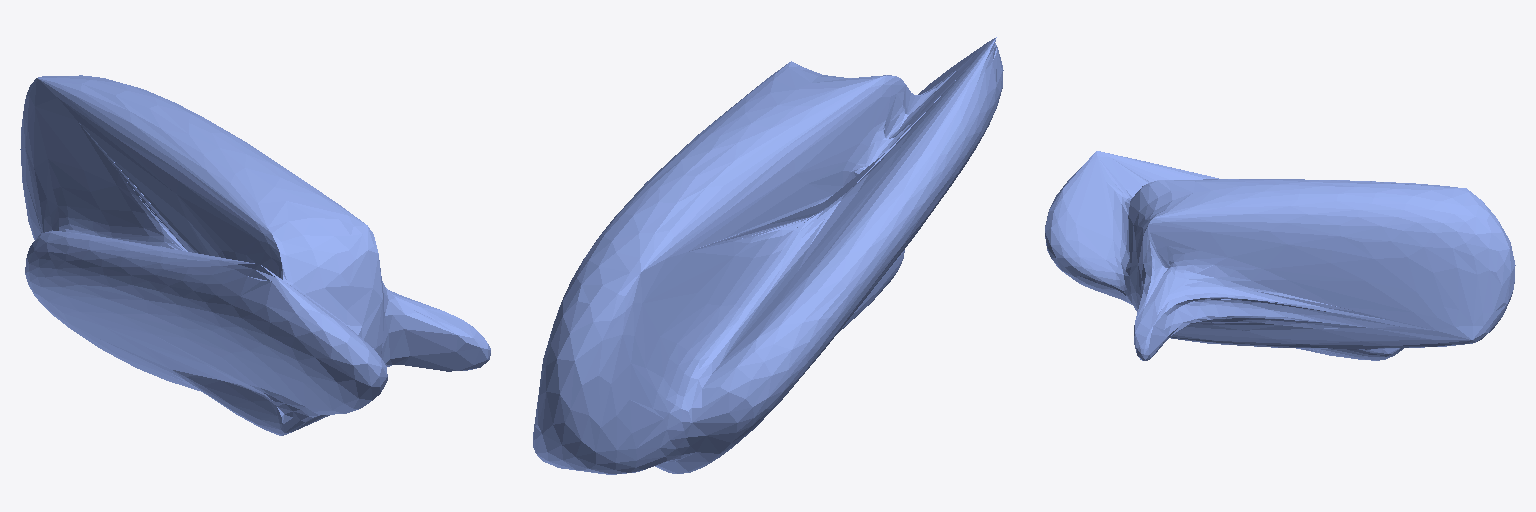
robot.urdf — blob344:

<robot name="blob344">
  <link name="random_obj_344">
    <contact>
      <lateral_friction value="1.0"/>
      <rolling_friction value="0.0"/>
      <inertia_scaling value="3.0"/>
      <contact_cfm value="0.0"/>
      <contact_erp value="1.0"/>
    </contact>
    <inertial>
      <origin rpy="0 0 0" xyz="0 0 0"/>
      <mass value="0.1213"/>
      <inertia ixx="1" ixy="0" ixz="0" iyy="1" iyz="0" izz="0"/>
    </inertial>
    <visual>
      <origin rpy="0 0 0" xyz="0 0 0"/>
      <geometry>
        <mesh filename="344.obj" scale="0.0084 0.0084 0.0084"/>
      </geometry>
      <material name="blockmat">
        <color rgba="0.62 0.71 0.96 1"/>
      </material>
    </visual>
    <collision>
      <origin rpy="0 0 0" xyz="0 0 0"/>
      <geometry>
        <mesh filename="344_coll.obj" scale="0.0084 0.0084 0.0084"/>
      </geometry>
    </collision>
  </link>
</robot>

--- What the picture shows (computed from the rendered views, not written in the file) ---
Views: 3 orthographic renders of the robot side by side, from view 1: azimuth 30°, elevation 25°; view 2: azimuth 150°, elevation 25°; view 3: azimuth 270°, elevation 25°.
Model blob344 with 1 links and 0 joints (none), rooted at random_obj_344, posed all joints at 0.
Visible links, largest first — view 1: random_obj_344; view 2: random_obj_344; view 3: random_obj_344.
Boxes of the visible links, box(x1,y1,x2,y2) form: random_obj_344: box(20, 75, 490, 435); random_obj_344: box(533, 37, 1003, 474); random_obj_344: box(1045, 151, 1515, 360).
Bounding box of the posed robot: 0.0577 × 0.1189 × 0.0505 m (x, y, z).
Meshes: 1 distinct files referenced, 1 mesh visuals loaded (1 OBJ).
